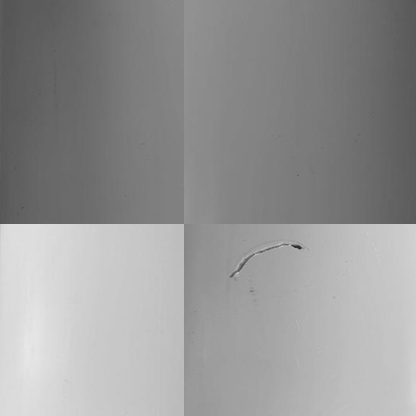fengxi: (225, 231, 311, 288)
